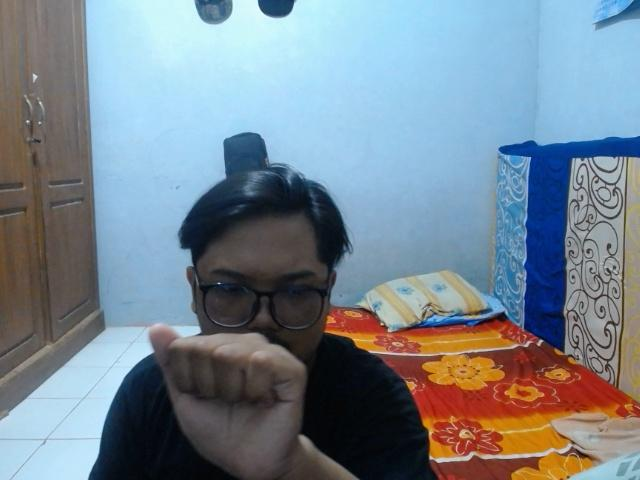Grab: (143, 314, 314, 480)
